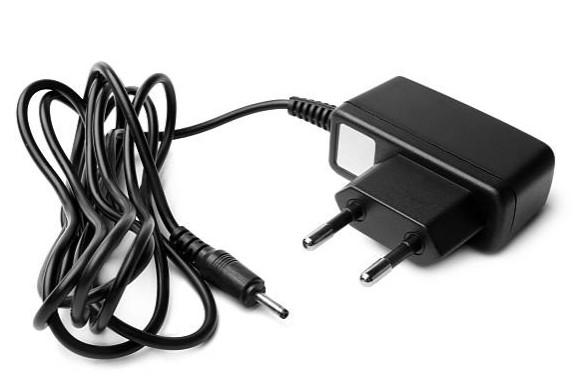cable: (16, 62, 555, 358)
